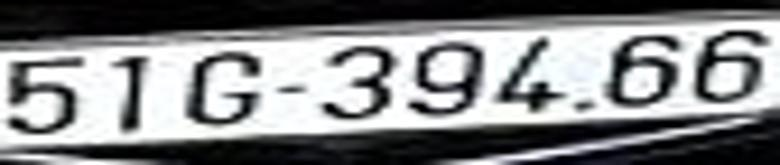-: (278, 84, 306, 95)
.: (576, 102, 588, 111)
1: (114, 57, 145, 130)
3: (322, 47, 392, 118)
4: (501, 39, 564, 115)
5: (6, 61, 82, 132)
6: (696, 30, 767, 99), (612, 32, 674, 105)
9: (412, 41, 481, 115)
G: (189, 50, 257, 126)
